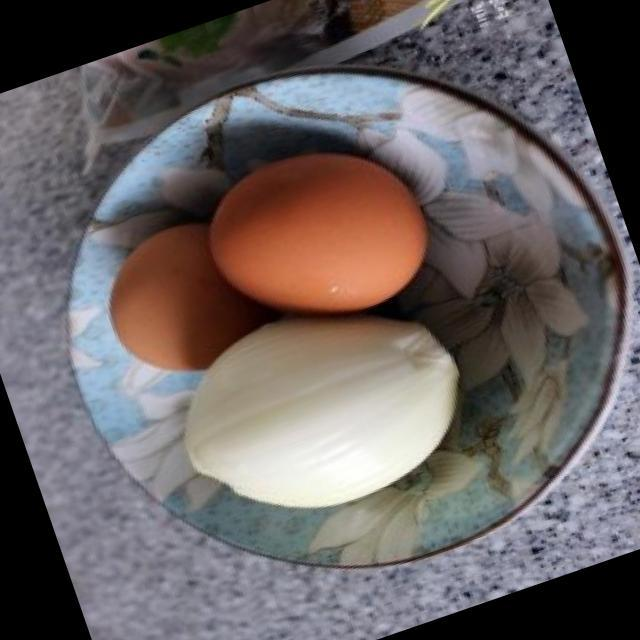Onion: (192, 318, 459, 505)
